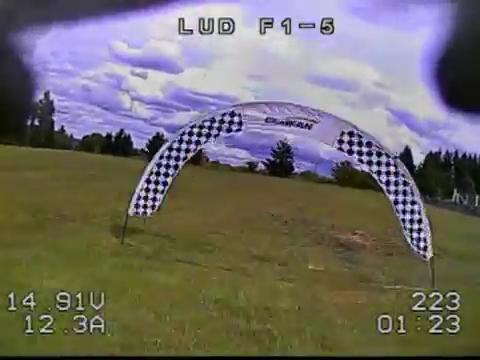gate: (126, 99, 435, 261)
